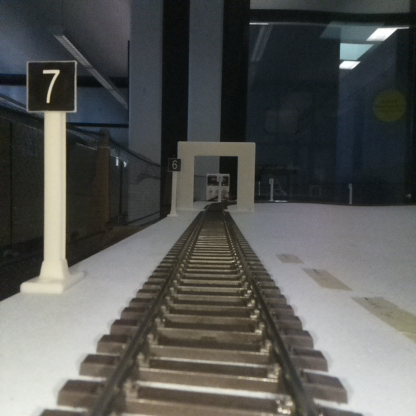black-info-6: (167, 158, 181, 216)
black-info-7: (27, 61, 74, 288)
